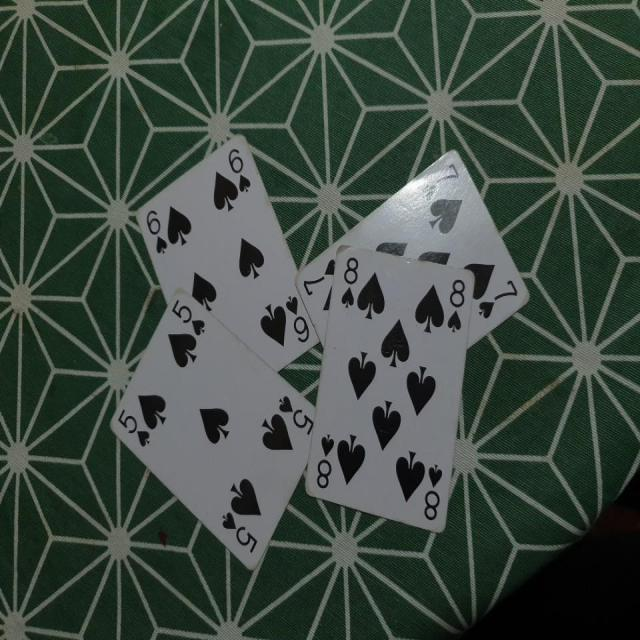5 Spades: (98, 292, 317, 576)
6 Spades: (140, 131, 332, 381)
7 Spades: (284, 126, 535, 380)
8 Spades: (298, 238, 478, 538)
